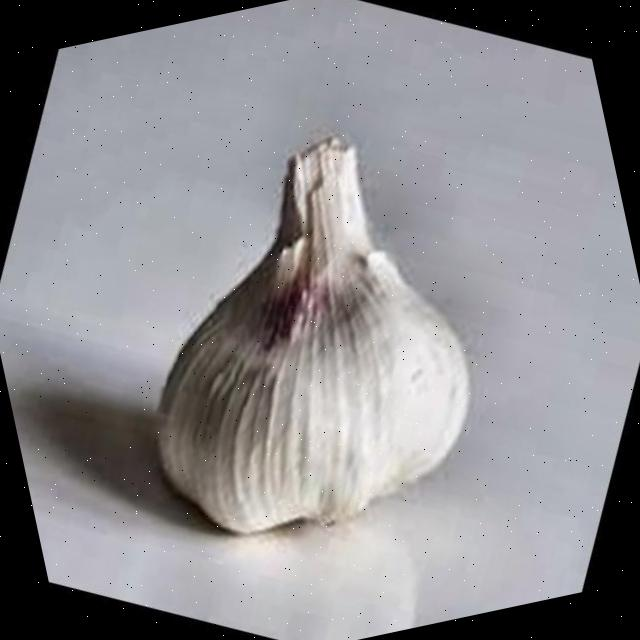garlic: (157, 135, 469, 533)
